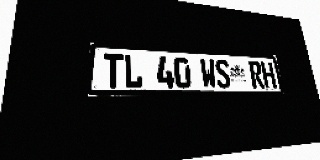0: (173, 57, 191, 88)
4: (156, 56, 175, 88)
H: (260, 62, 277, 88)
L: (124, 54, 143, 88)
R: (248, 61, 265, 88)
S: (214, 59, 232, 88)
T: (103, 53, 123, 88)
W: (199, 58, 217, 88)
